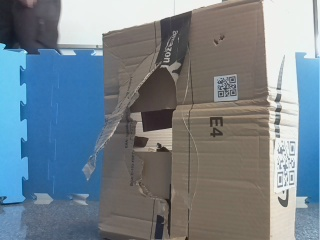caja_rota: (103, 1, 297, 240)
